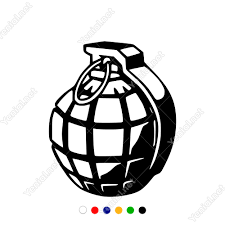e1: (48, 39, 176, 196)
